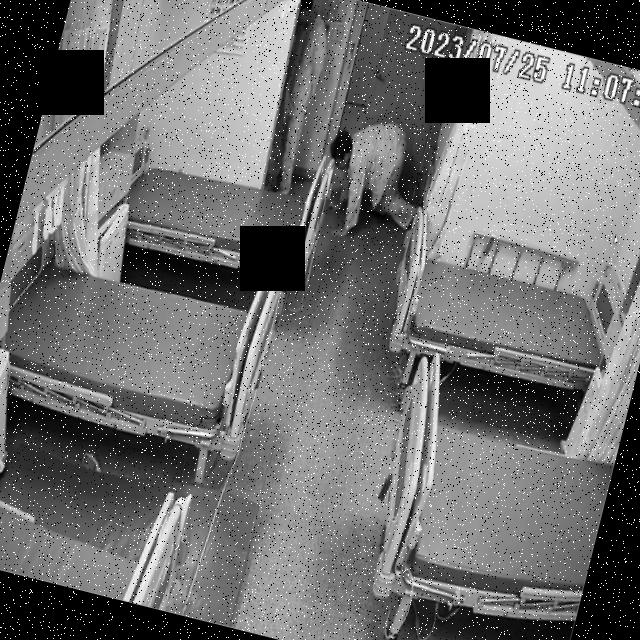bed: (356, 348, 630, 639), (0, 243, 279, 455), (377, 231, 633, 403), (118, 144, 326, 285)
fall: (310, 112, 439, 248)
patient: (308, 110, 438, 250), (252, 0, 339, 194)
